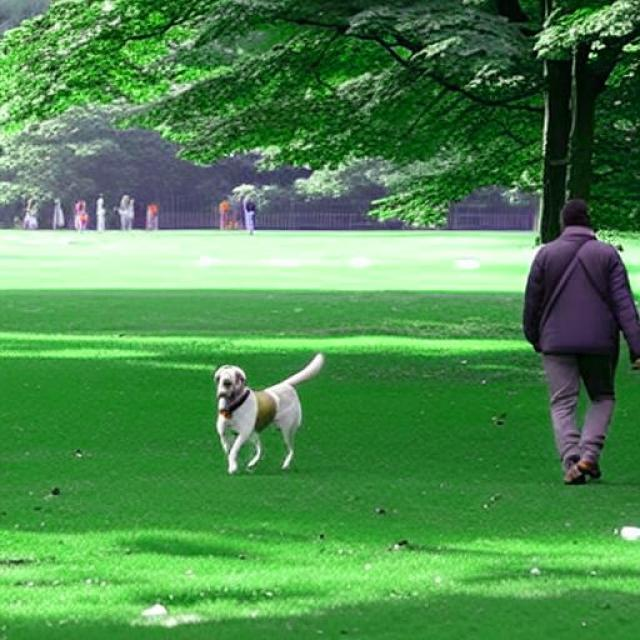Unleashed_Dog: (213, 352, 617, 474)
